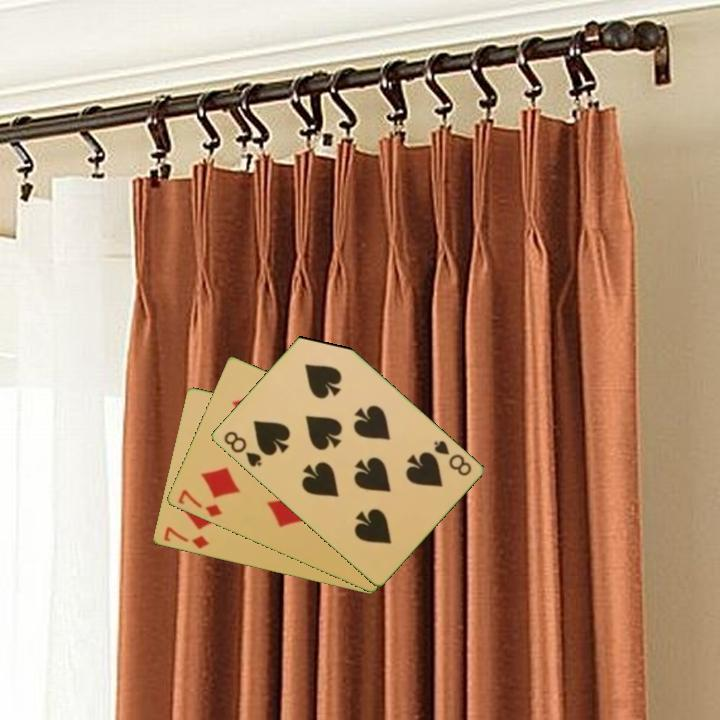7d: (174, 486, 224, 520), (160, 523, 212, 552)
8s: (220, 427, 264, 470), (429, 437, 474, 479)
